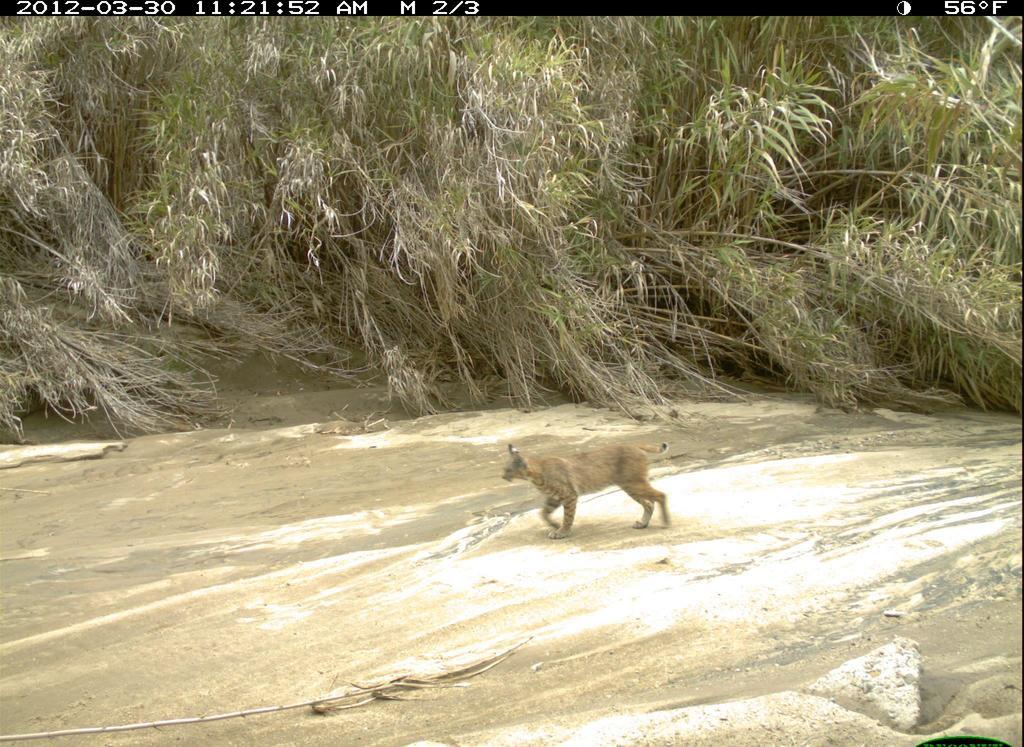bobcat: (495, 440, 681, 538)
